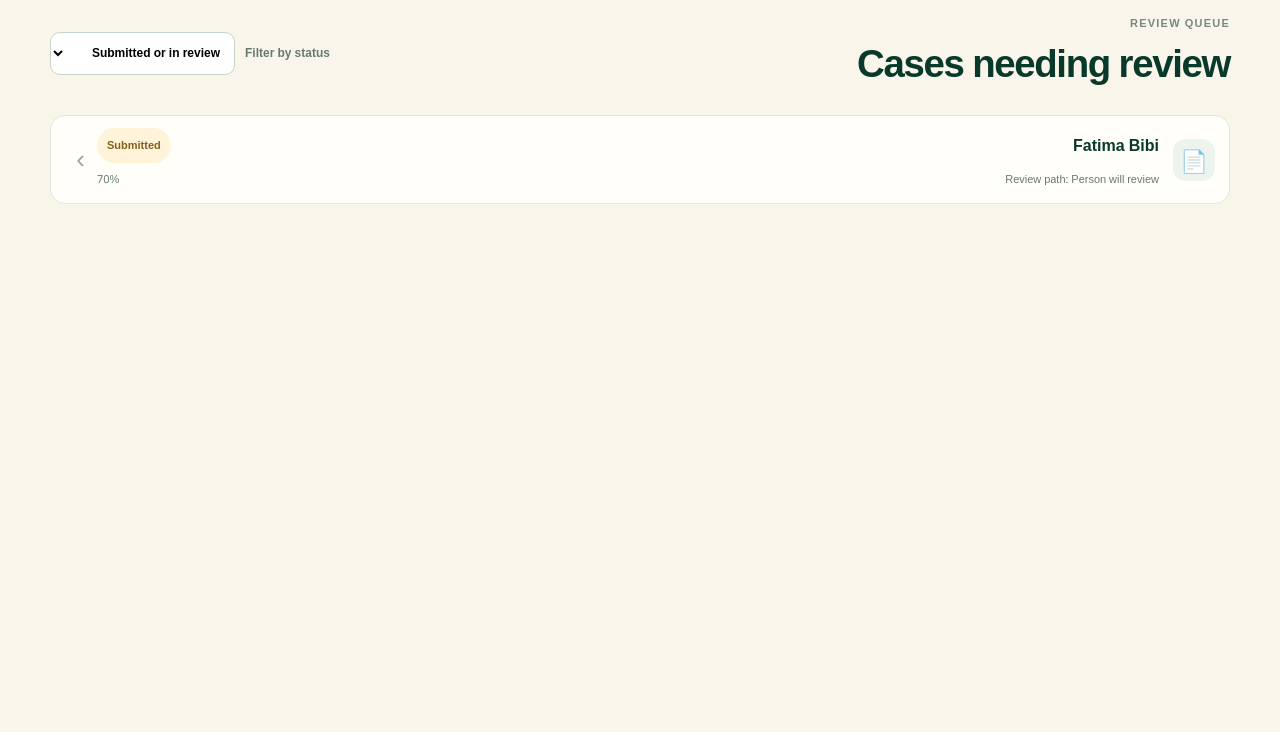
Test case: officer case status actions › shows officer decision actions for a submitted case
Step 1. Click the button "Fatima Bibi" → [1194, 160], box [50,115,1230,204]
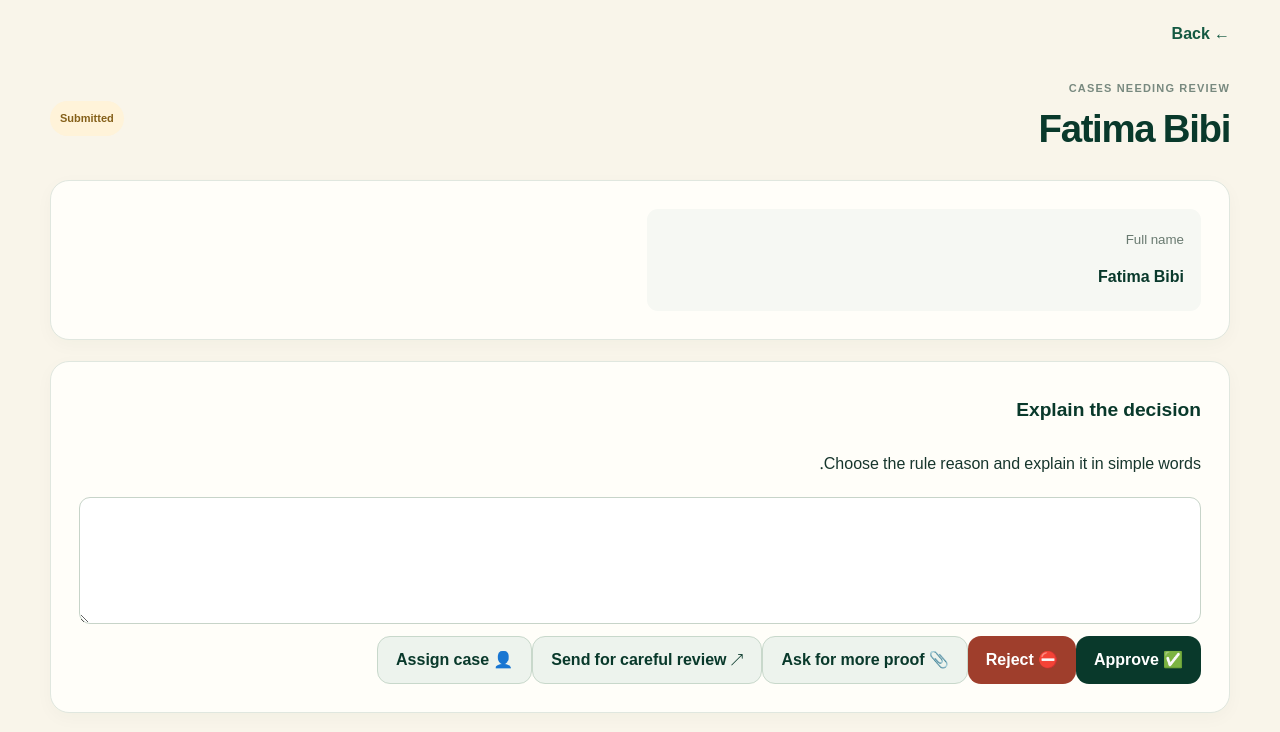
Now the button "⛔ Reject" is shown, box [968,636,1076,684]
